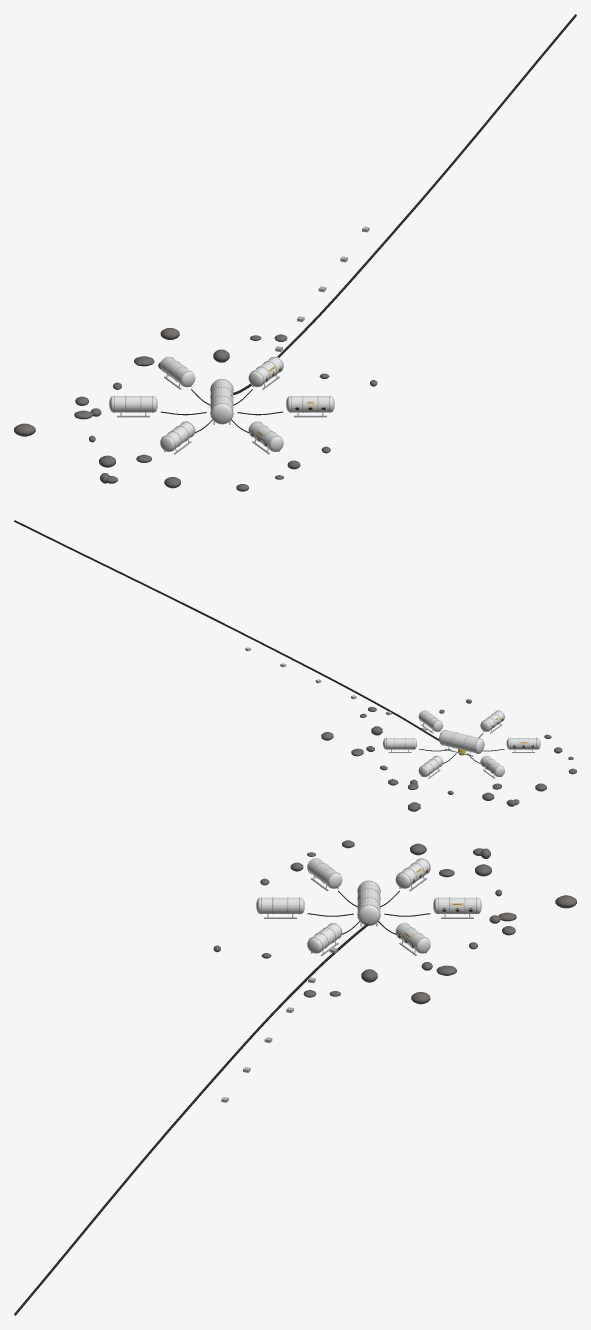
File: fond.glb
3 views of the same model, one above another, from view 1: azimuth 90°, elevation 25°; view 2: azimuth 150°, elevation 25°; view 3: azimuth 270°, elevation 25° (orthographic). The views are drawn at different scales.
Parts seen in each view (by area): view 1: CableCarte, Coque.001, Coque.004; view 2: CableCarte, Coque; view 3: CableCarte, Coque.004, Coque.001.
Boxes of the visible parts, x1,y1,x2,y2 form: CableCarte: (233, 14, 576, 394); Coque.001: (113, 396, 153, 412); Coque.004: (289, 396, 330, 412); CableCarte: (14, 520, 438, 740); Coque: (440, 730, 480, 753); CableCarte: (14, 924, 368, 1315); Coque.004: (260, 897, 301, 913); Coque.001: (437, 897, 477, 913).
Size of the model in its own units: 190 by 5.57 by 95.47.
Materials: 12 (1 with a texture image).
